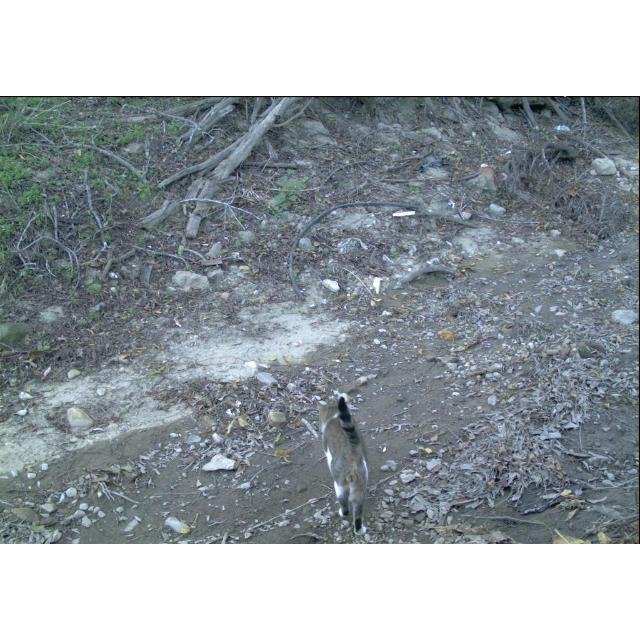animals: (312, 392, 374, 538)
